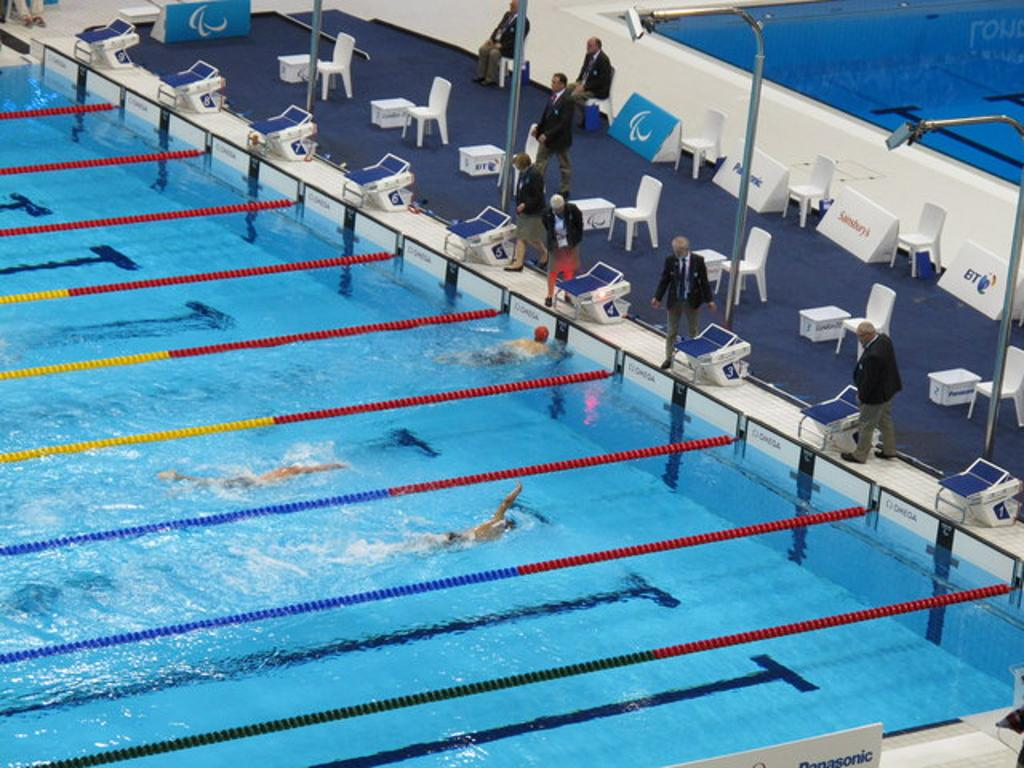face: (672, 244, 685, 257), (857, 331, 869, 344), (551, 76, 561, 91), (586, 40, 595, 53)
